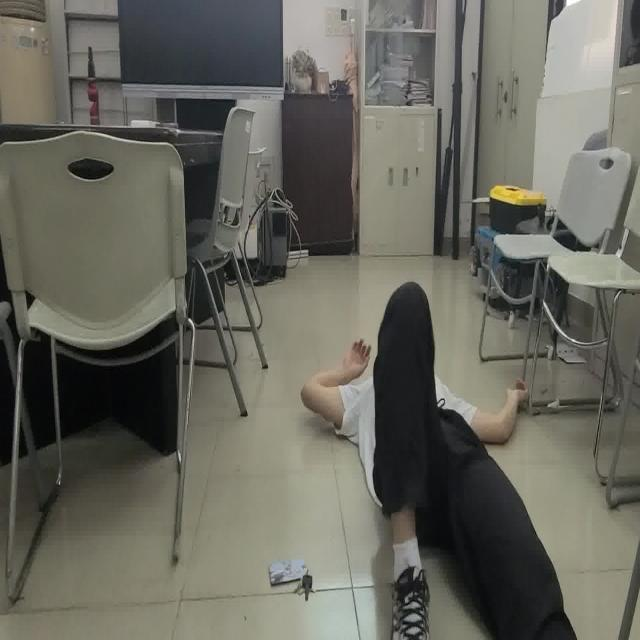fall: (299, 279, 577, 640)
